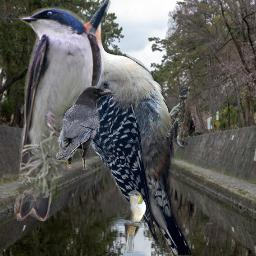Crow: (54, 86, 114, 170)
Cuckoo: (123, 190, 146, 253)
Swallow: (11, 6, 104, 221)
Woodpecker: (50, 0, 191, 255)
